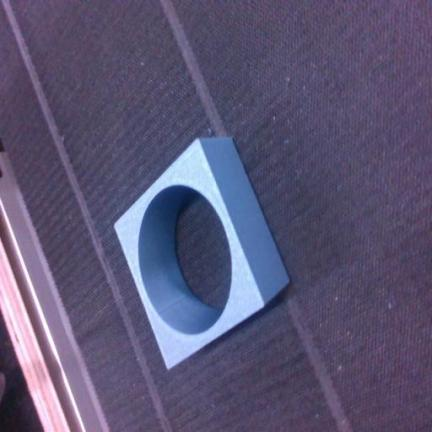hole: (114, 138, 289, 368)
